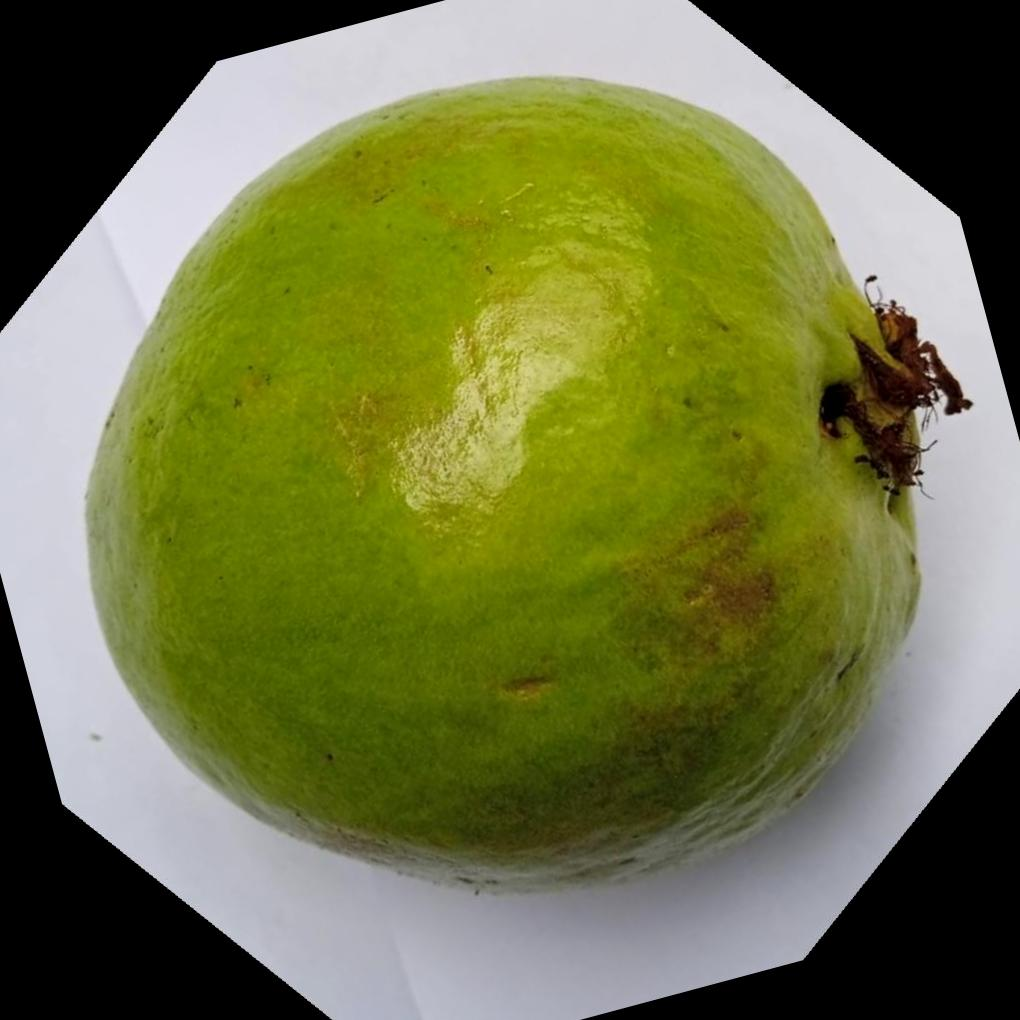FreshGuava: (77, 73, 964, 897)
